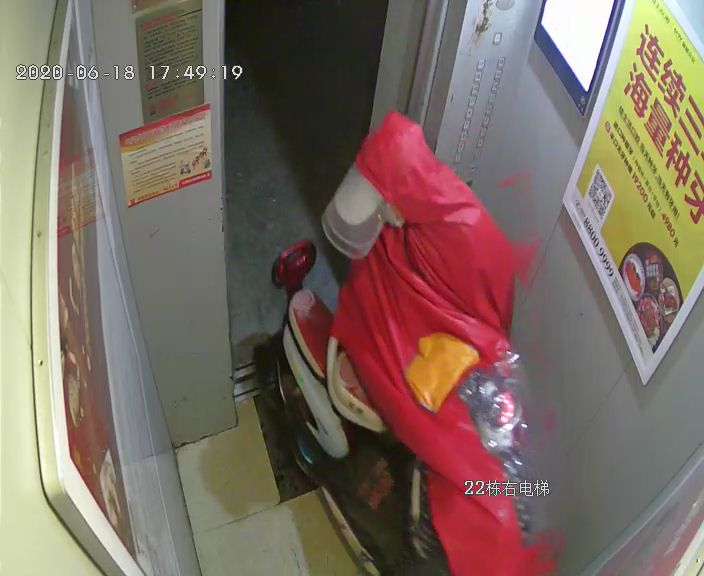Electric-bicycle: (274, 239, 535, 571)
